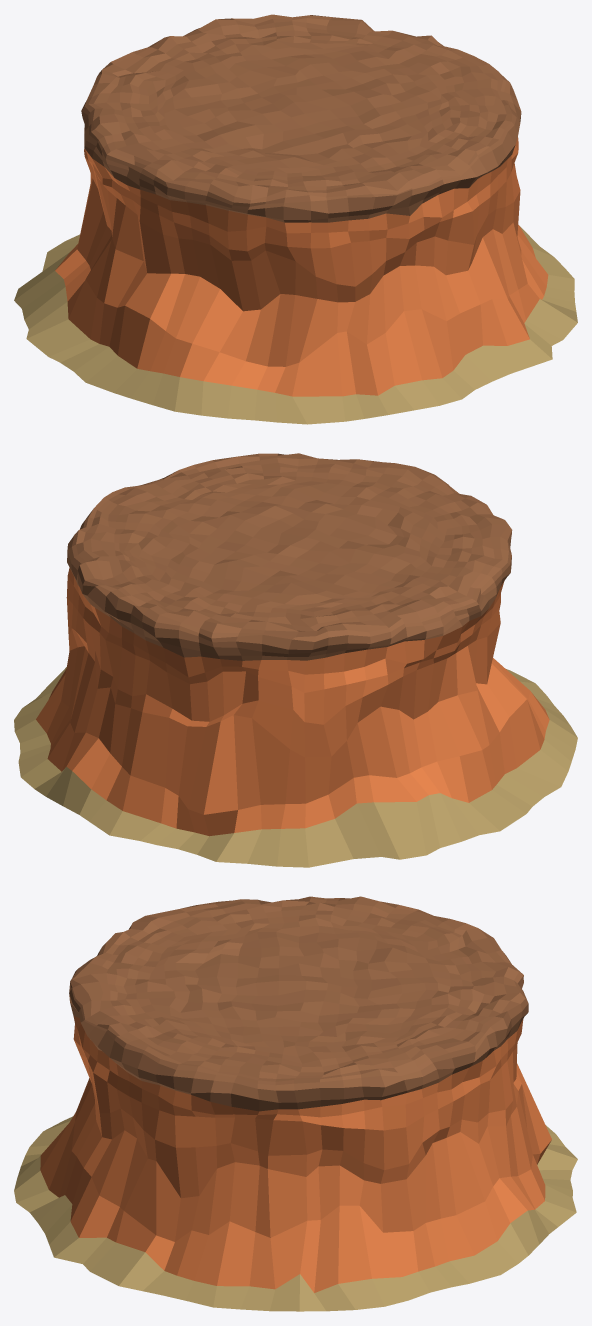
File: mainPlatform.obj
3 renders of one model, top to bottom at view 1: azimuth 30°, elevation 25°; view 2: azimuth 150°, elevation 25°; view 3: azimuth 270°, elevation 25°, orthographic. The views are drawn at different scales.
Visible parts, largest first — view 1: Cylinder; view 2: Cylinder; view 3: Cylinder.
Part boxes in pixels (x1,y1,x2,y2): Cylinder: (14,14,577,424); Cylinder: (14,453,577,867); Cylinder: (14,896,577,1311).
Bounding box in the file's own units: 2.63 × 1.06 × 2.58.
